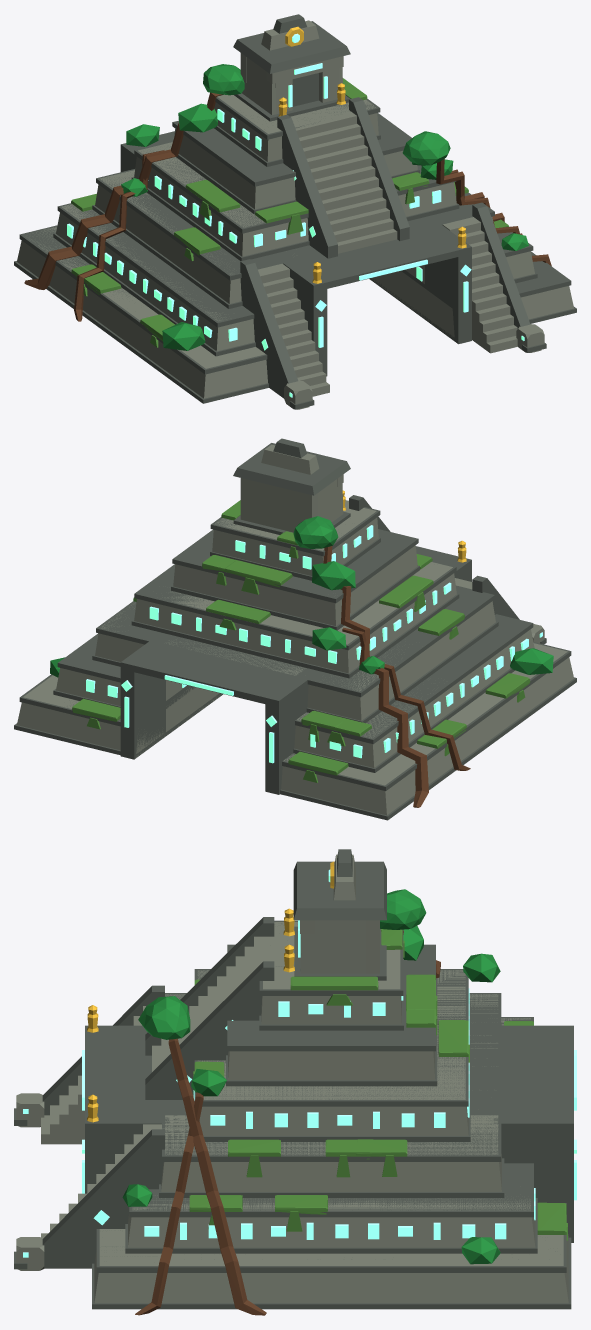
File: Jungle_3_StepPyramid.fbx
The picture shows the model from 3 angles, top to bottom: view 1: azimuth 30°, elevation 25°; view 2: azimuth 150°, elevation 25°; view 3: azimuth 270°, elevation 25°; orthographic projection. The views are drawn at different scales.
Parts seen in each view (by area): view 1: Jungle_3_StepPyramid__Jungle_Stone, Jungle_3_StepPyramid__Jungle_StoneDark, Jungle_3_StepPyramid__Jungle_Leaf, Jungle_3_StepPyramid__Jungle_Moss, Jungle_3_StepPyramid__Jungle_Trunk, Jungle_3_StepPyramid__Neon_Jungle_Glyph, Jungle_3_StepPyramid__Jungle_Gold; view 2: Jungle_3_StepPyramid__Jungle_Stone, Jungle_3_StepPyramid__Jungle_StoneDark, Jungle_3_StepPyramid__Jungle_Moss, Jungle_3_StepPyramid__Neon_Jungle_Glyph, Jungle_3_StepPyramid__Jungle_Leaf, Jungle_3_StepPyramid__Jungle_Trunk; view 3: Jungle_3_StepPyramid__Jungle_StoneDark, Jungle_3_StepPyramid__Jungle_Stone, Jungle_3_StepPyramid__Jungle_Moss, Jungle_3_StepPyramid__Jungle_Leaf, Jungle_3_StepPyramid__Jungle_Trunk, Jungle_3_StepPyramid__Neon_Jungle_Glyph, Jungle_3_StepPyramid__Jungle_Gold.
Boxes of the visible parts, x1,y1,x2,y2 form: Jungle_3_StepPyramid__Jungle_Stone: [17, 20, 573, 409]; Jungle_3_StepPyramid__Jungle_StoneDark: [14, 14, 576, 409]; Jungle_3_StepPyramid__Jungle_Leaf: [121, 64, 528, 350]; Jungle_3_StepPyramid__Jungle_Moss: [71, 78, 509, 347]; Jungle_3_StepPyramid__Jungle_Trunk: [24, 92, 551, 321]; Jungle_3_StepPyramid__Neon_Jungle_Glyph: [67, 33, 524, 397]; Jungle_3_StepPyramid__Jungle_Gold: [278, 26, 466, 283]; Jungle_3_StepPyramid__Jungle_Stone: [17, 444, 573, 815]; Jungle_3_StepPyramid__Jungle_StoneDark: [14, 438, 576, 820]; Jungle_3_StepPyramid__Jungle_Moss: [72, 500, 530, 782]; Jungle_3_StepPyramid__Neon_Jungle_Glyph: [86, 525, 542, 763]; Jungle_3_StepPyramid__Jungle_Leaf: [50, 516, 553, 677]; Jungle_3_StepPyramid__Jungle_Trunk: [323, 546, 470, 807]; Jungle_3_StepPyramid__Jungle_StoneDark: [14, 849, 573, 1309]; Jungle_3_StepPyramid__Jungle_Stone: [16, 854, 568, 1303]; Jungle_3_StepPyramid__Jungle_Moss: [189, 929, 567, 1240]; Jungle_3_StepPyramid__Jungle_Leaf: [122, 889, 500, 1264]; Jungle_3_StepPyramid__Jungle_Trunk: [135, 930, 440, 1315]; Jungle_3_StepPyramid__Neon_Jungle_Glyph: [23, 869, 576, 1257]; Jungle_3_StepPyramid__Jungle_Gold: [87, 861, 334, 1122].
Bounding box in the file's own units: 124 × 79.99 × 121.
